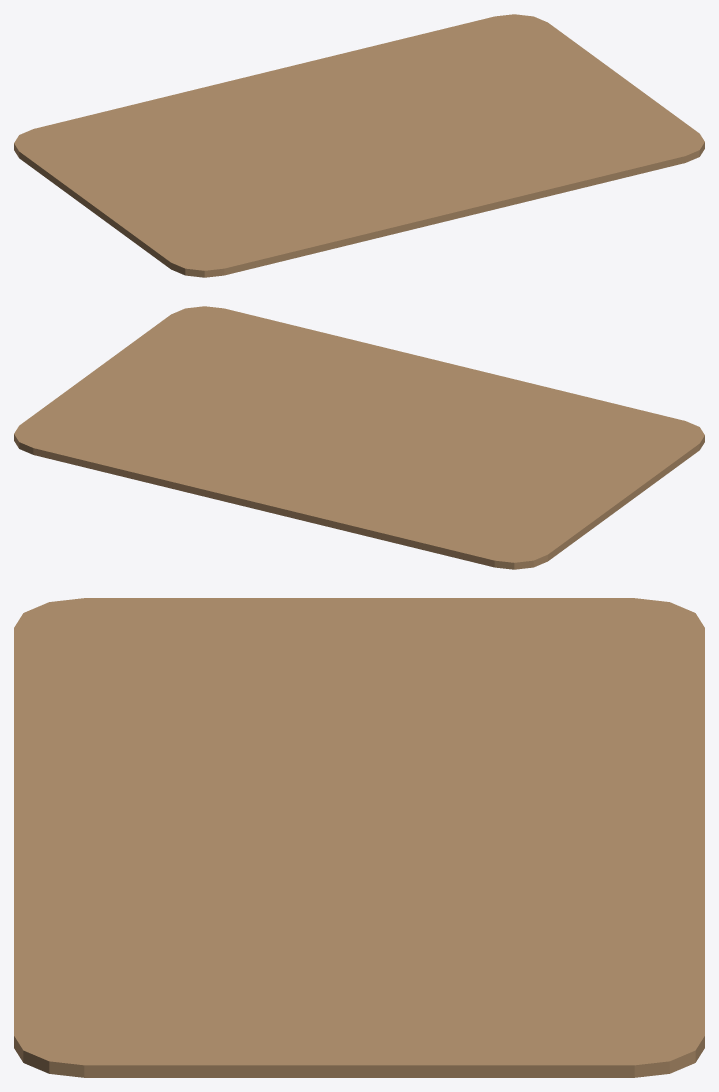
Rendered from Carpet_01.fbx.
The picture shows the model from 3 angles, top to bottom: view 1: azimuth 30°, elevation 25°; view 2: azimuth 150°, elevation 25°; view 3: azimuth 270°, elevation 25°; orthographic projection. The views are drawn at different scales.
Parts seen in each view (by area): view 1: Carpet_01; view 2: Carpet_01; view 3: Carpet_01.
Part boxes in pixels (box(x1,y1,x2,y2)): Carpet_01: box(14, 14, 704, 277); Carpet_01: box(14, 306, 704, 569); Carpet_01: box(14, 598, 704, 1077).
Size of the model in its own units: 80 by 1 by 50.
